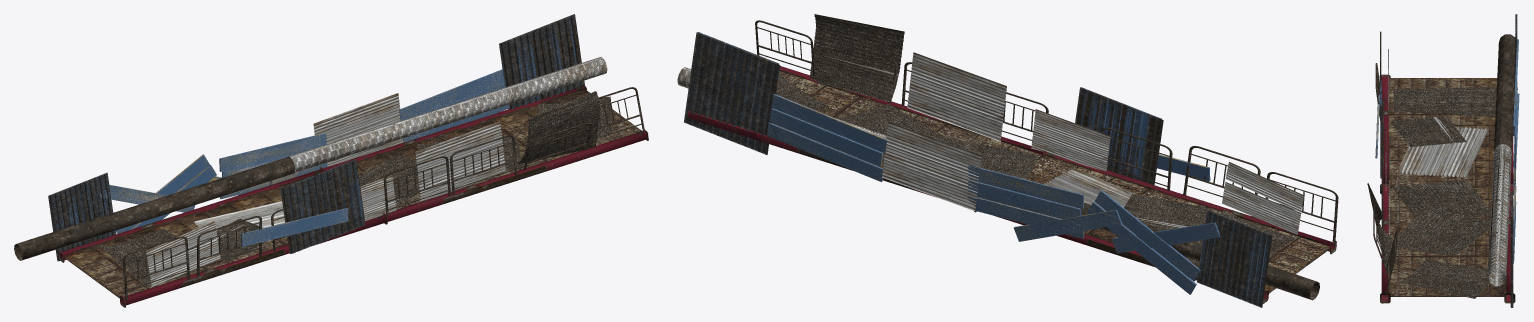
The model's file is Metal-Bridge.fbx.
3 views of the same model, side by side, from view 1: azimuth 30°, elevation 25°; view 2: azimuth 150°, elevation 25°; view 3: azimuth 270°, elevation 25° (orthographic). The views are drawn at different scales.
Visible parts, largest first — view 1: Group1; view 2: Group1; view 3: Group1.
Boxes of the visible parts, left/top/right/bottom form: Group1: left=14, top=14, right=648, bottom=307; Group1: left=677, top=14, right=1338, bottom=307; Group1: left=1367, top=14, right=1519, bottom=307.
Size of the model in its own units: 16840 by 3531 by 3776.
